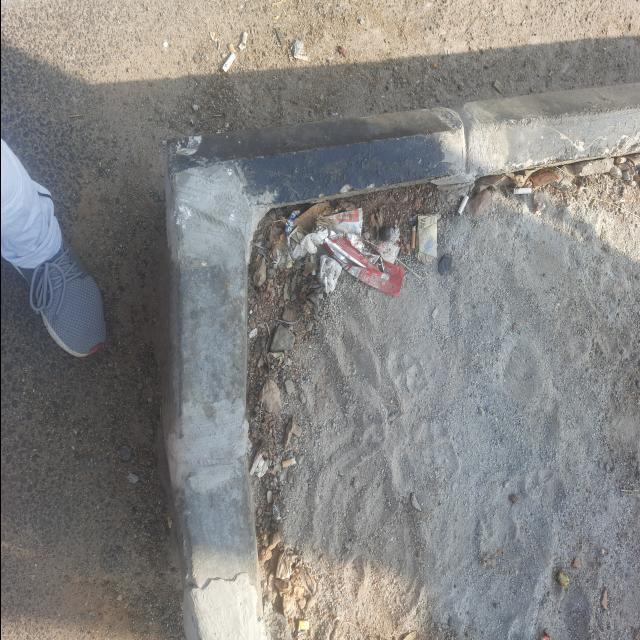Background: (0, 2, 640, 637), (245, 155, 640, 640)
Cig_bud: (221, 53, 235, 72), (456, 195, 468, 215), (238, 32, 248, 50), (280, 457, 295, 468), (512, 188, 531, 195), (226, 43, 235, 53)
Plastic_wraper: (322, 233, 402, 297), (285, 210, 299, 238)
Tetrapack: (298, 620, 309, 630)
